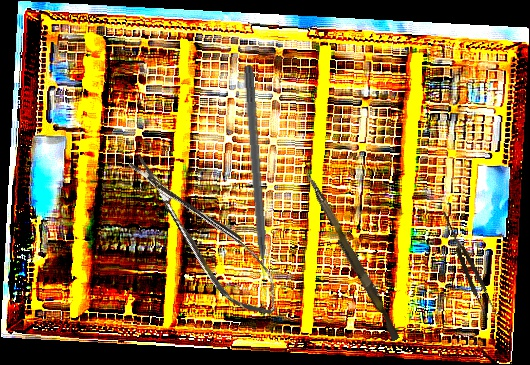Micro Scissor: (119, 139, 291, 330)
Pusher: (298, 171, 405, 342), (240, 64, 271, 297)
Tissue Forceps: (437, 208, 499, 321)
